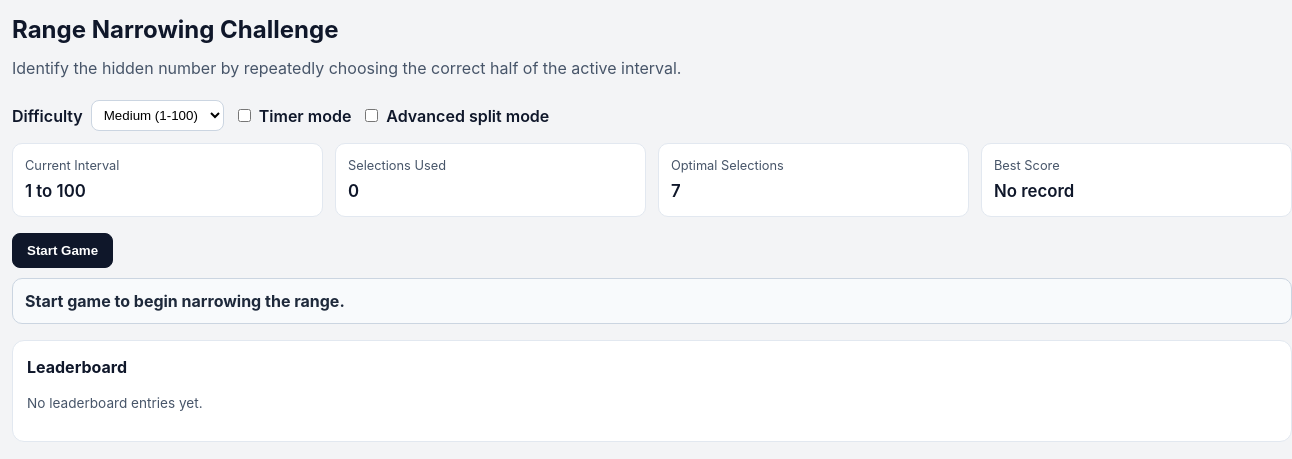
Test case: RangeNarrowingPage › increments selection count and shows inside feedback
What coordinates should you click on to do the following:
click the button "Start Game"
I would click on:
 (63, 251)
Its box is x1=12 y1=233 x2=113 y2=268.
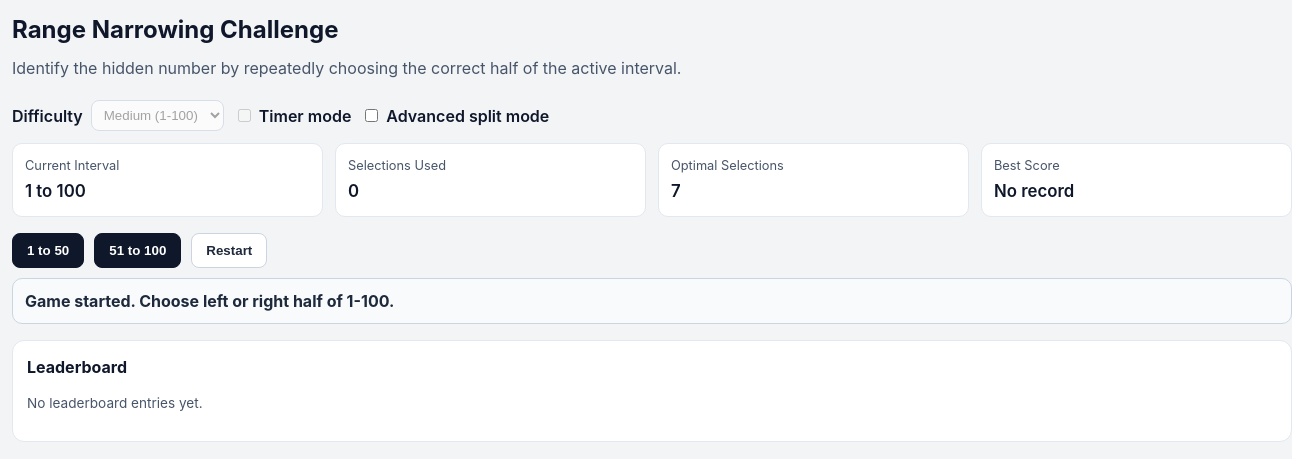
What coordinates should you click on to do the following:
click the button "1 to 50"
I would click on:
 (48, 251)
Its box is x1=12 y1=233 x2=84 y2=268.
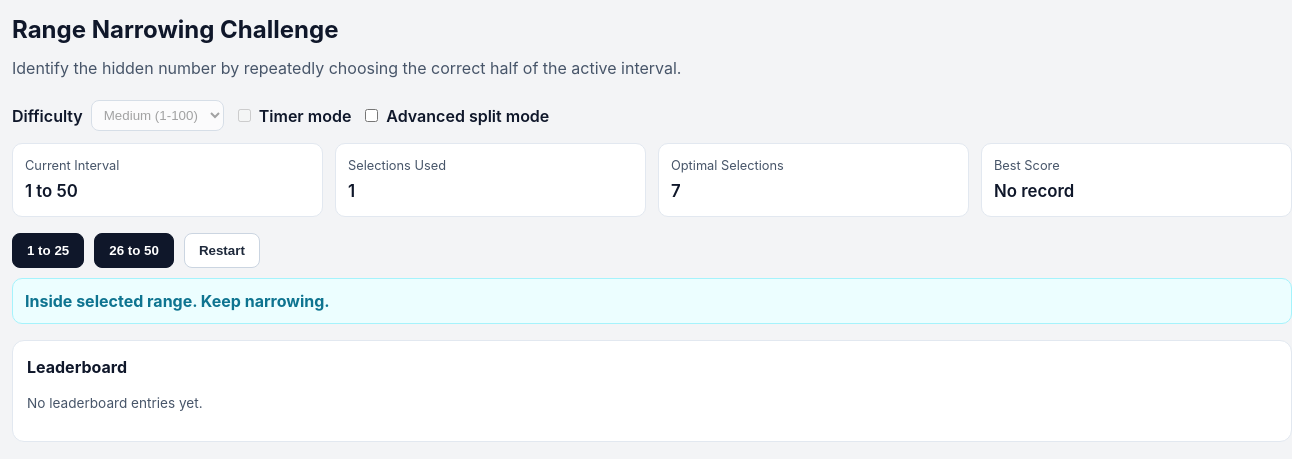
Expected: the text "Selections Used" is shown, x1=348 y1=158 x2=446 y2=173
Expected: the text "Inside selected range. Keep narrowing." is shown, x1=12 y1=278 x2=1291 y2=324
